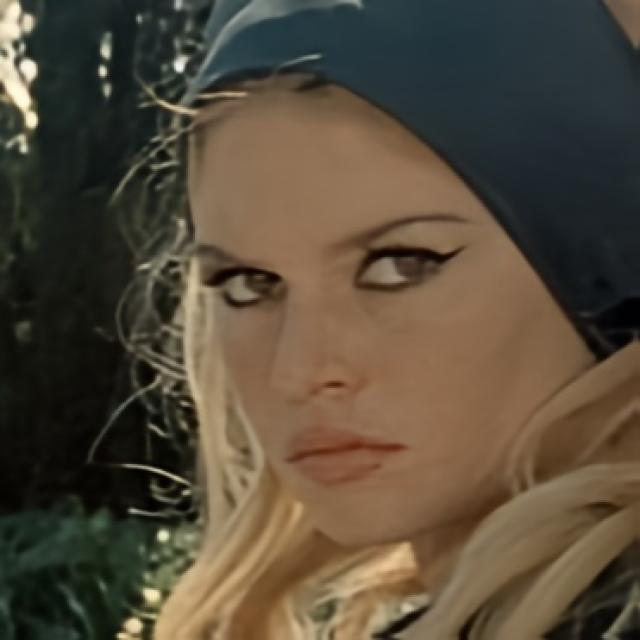anger: (180, 86, 538, 550), (0, 5, 22, 39)
